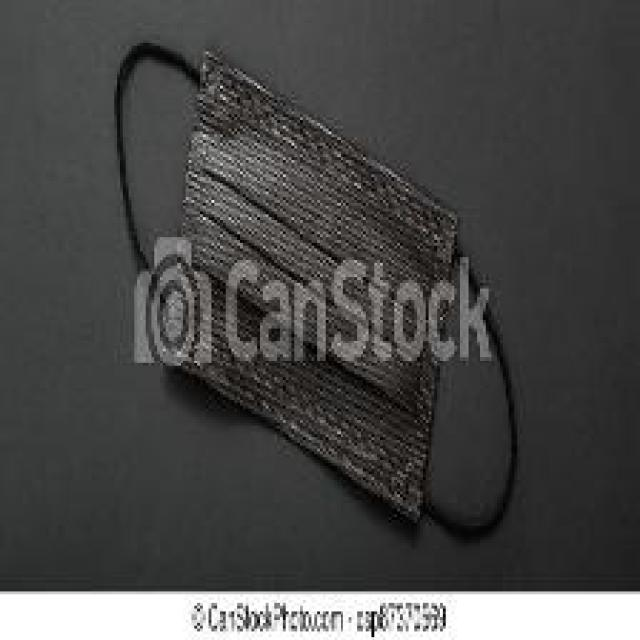Mask: (94, 30, 539, 589)
